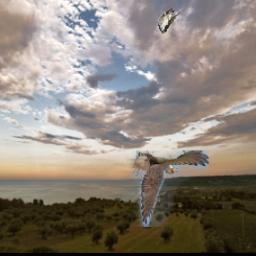Cuckoo: (123, 152, 209, 228)
Swallow: (157, 8, 182, 34)
